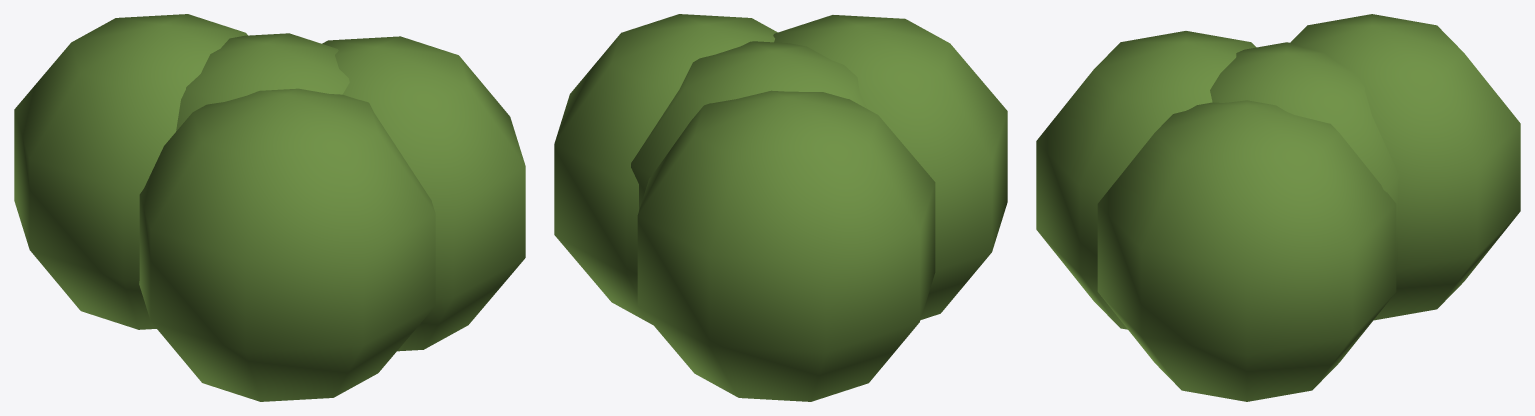
Rendered from prop_bush2_52e3.glb.
3 renders of one model, left to right at view 1: azimuth 30°, elevation 25°; view 2: azimuth 150°, elevation 25°; view 3: azimuth 270°, elevation 25°, orthographic. The views are drawn at different scales.
Parts seen in each view (by area): view 1: prop_bush2_52e3; view 2: prop_bush2_52e3; view 3: prop_bush2_52e3.
Part boxes in pixels (x1=…): prop_bush2_52e3: x1=14, y1=14, x2=525, y2=401; prop_bush2_52e3: x1=554, y1=14, x2=1007, y2=401; prop_bush2_52e3: x1=1036, y1=14, x2=1520, y2=401.
Bounding box in the file's own units: 0.6672 × 0.4703 × 0.6999.
Materials: 1 (1 with a texture image).
